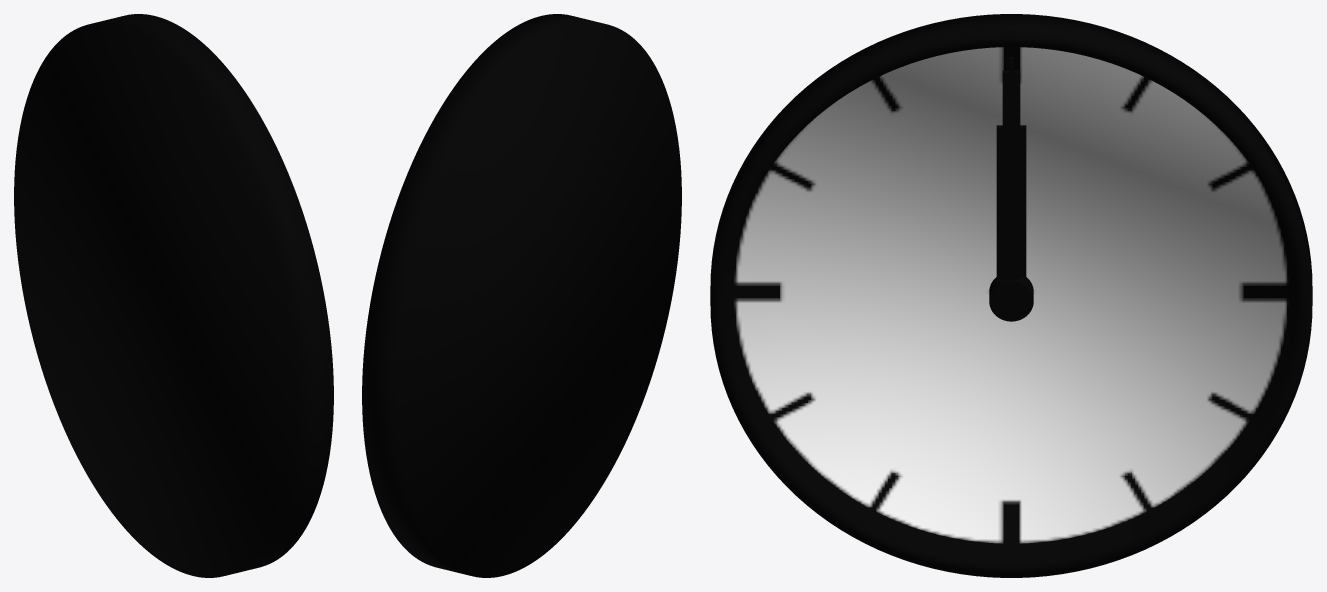
Rendered from clock.glb.
3 views of the same model, side by side, from view 1: azimuth 30°, elevation 25°; view 2: azimuth 150°, elevation 25°; view 3: azimuth 270°, elevation 25° (orthographic). The views are drawn at different scales.
Visible parts, largest first — view 1: Cylinder; view 2: Cylinder; view 3: Cylinder, Cube.001, Cube, Cylinder.001, Cube.002.
Boxes of the visible parts, bbox=[...] form: Cylinder: bbox=[14, 14, 333, 577]; Cylinder: bbox=[362, 14, 681, 577]; Cylinder: bbox=[710, 14, 1312, 577]; Cube.001: bbox=[1002, 70, 1020, 279]; Cube: bbox=[996, 125, 1026, 279]; Cylinder.001: bbox=[989, 276, 1033, 321]; Cube.002: bbox=[1009, 57, 1013, 280].
Size of the model in its own units: 0.1456 by 2 by 2.
Materials: 2 (1 with a texture image).
